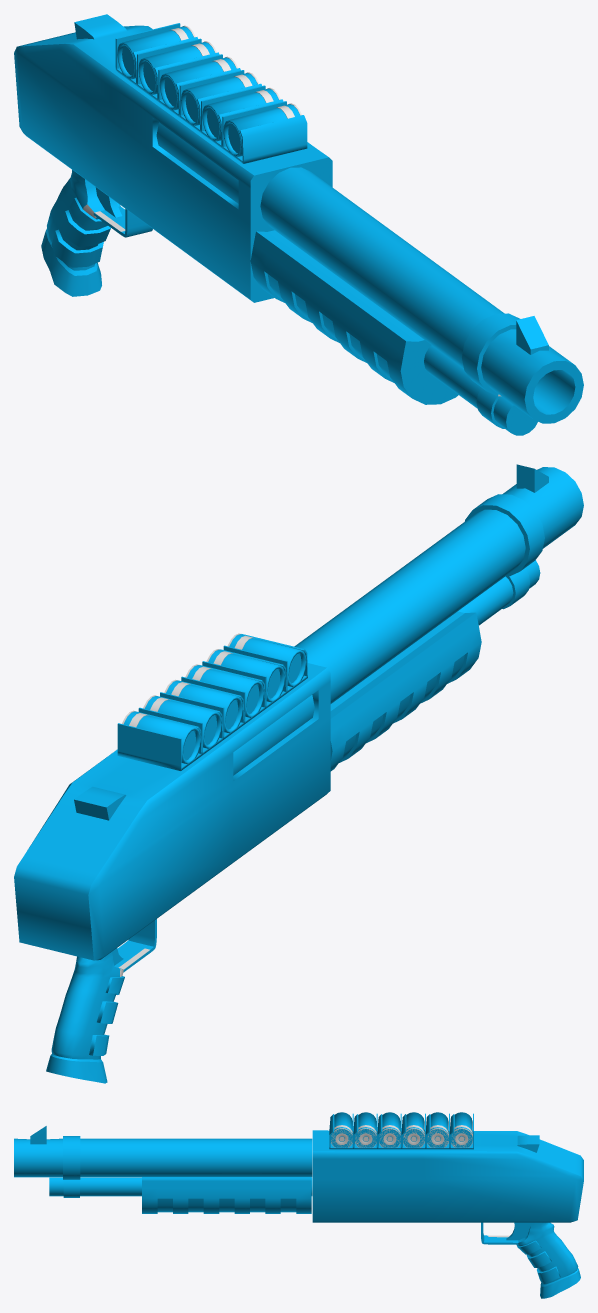
Rendered from shotgun_w_LODs.fbx.
3 renders of one model, top to bottom at view 1: azimuth 30°, elevation 25°; view 2: azimuth 150°, elevation 25°; view 3: azimuth 270°, elevation 25°, orthographic. The views are drawn at different scales.
Visible parts, largest first — view 1: UTM_Firegeo, shotgun_LOD0; view 2: UTM_Firegeo, shotgun_LOD0; view 3: UTM_Firegeo, shotgun_LOD0.
Part boxes in pixels (bbox=[...]): UTM_Firegeo: bbox=[14, 14, 583, 435]; shotgun_LOD0: bbox=[83, 25, 501, 396]; UTM_Firegeo: bbox=[14, 464, 583, 1083]; shotgun_LOD0: bbox=[118, 633, 254, 976]; UTM_Firegeo: bbox=[14, 1112, 583, 1298]; shotgun_LOD0: bbox=[49, 1125, 509, 1237].
Size of what is drawn, in the model's own units: 8.19 by 29.35 by 86.23.
